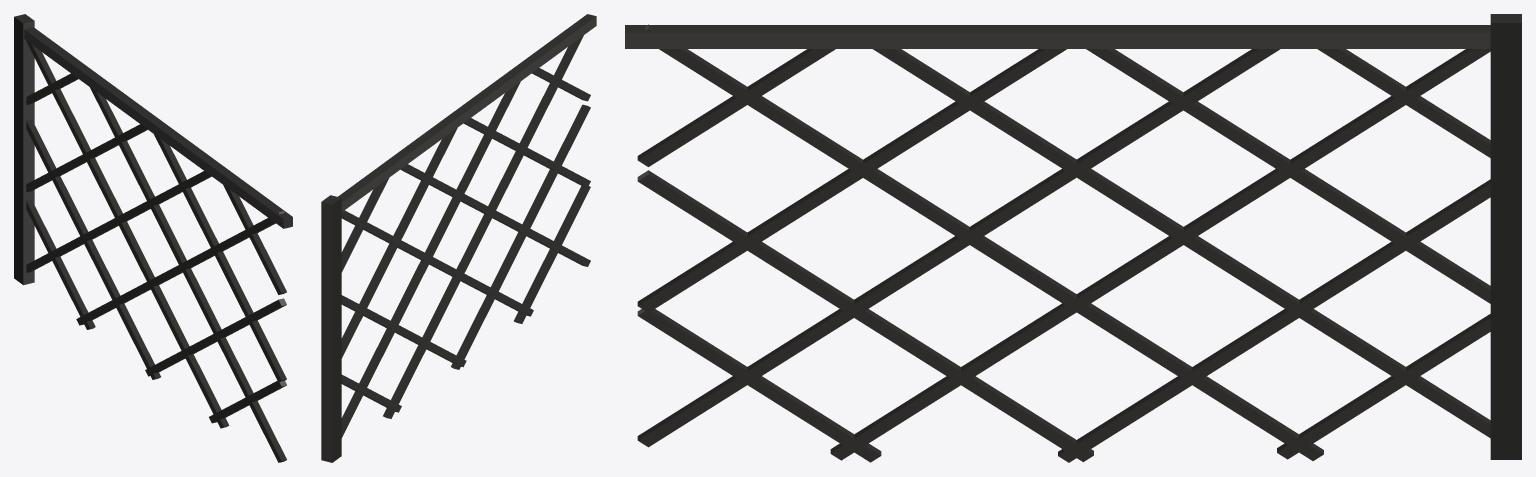
File: Fence_Bighalf.fbx
3 views of the same model, side by side, from view 1: azimuth 30°, elevation 25°; view 2: azimuth 150°, elevation 25°; view 3: azimuth 270°, elevation 25° (orthographic). The views are drawn at different scales.
Parts seen in each view (by area): view 1: FenceHalf; view 2: FenceHalf; view 3: FenceHalf.
Part boxes in pixels (x1,y1,x2,y2): FenceHalf: (14,14,292,462); FenceHalf: (321,14,596,462); FenceHalf: (625,14,1521,462).
Bounding box in the file's own units: 6.98 × 157 × 289.
